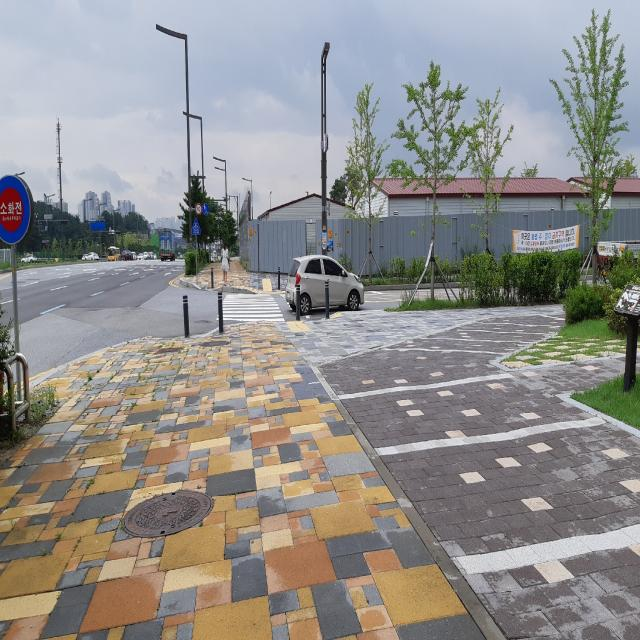횡단보도: (216, 293, 286, 322)
